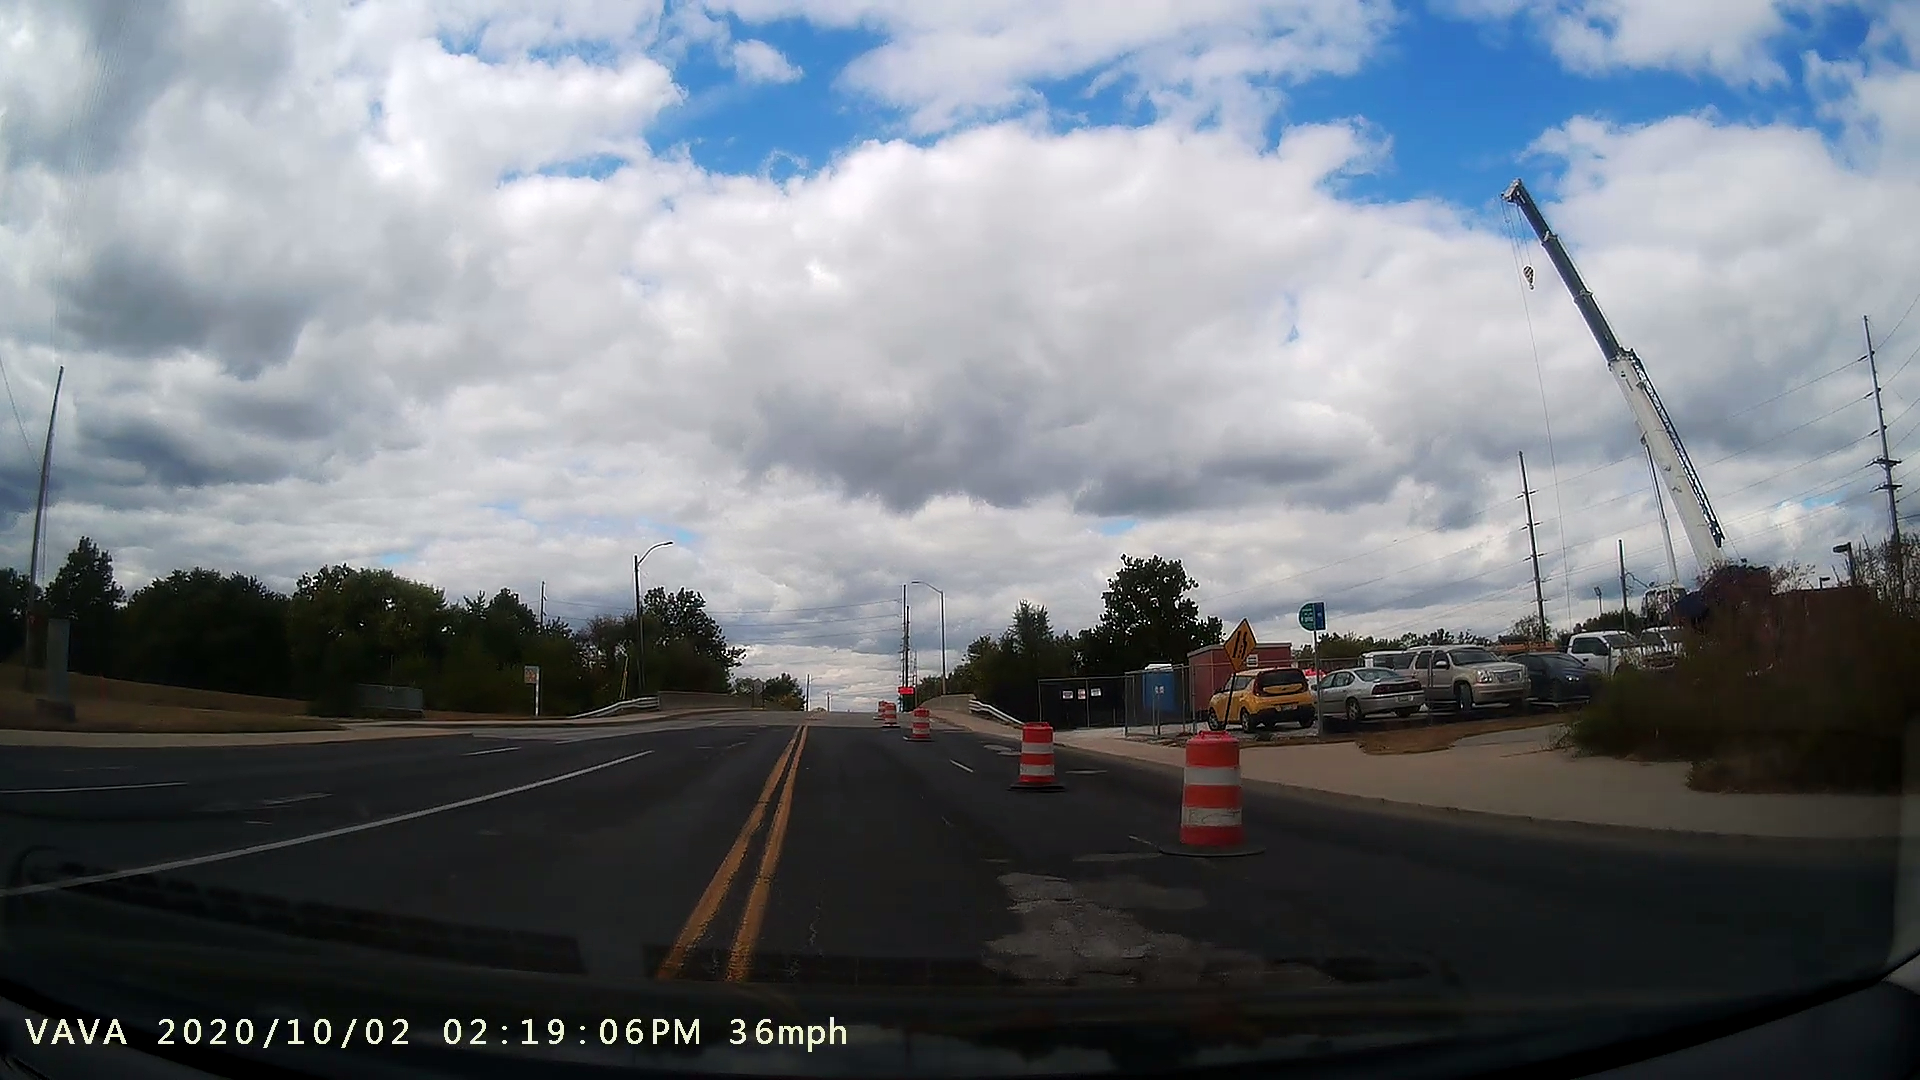const_barrel: (1153, 723, 1273, 874), (996, 713, 1076, 804), (903, 700, 943, 748)
